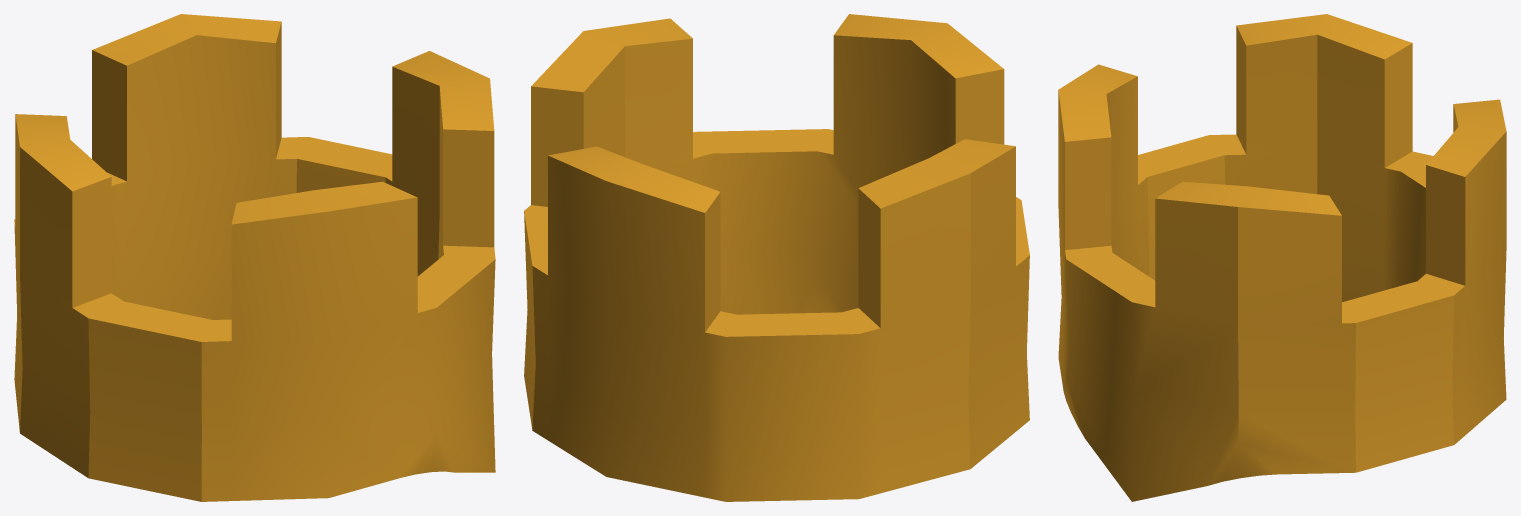
File: tac.fbx
3 views of the same model, side by side, from view 1: azimuth 30°, elevation 25°; view 2: azimuth 150°, elevation 25°; view 3: azimuth 270°, elevation 25° (orthographic). The views are drawn at different scales.
Parts seen in each view (by area): view 1: tac; view 2: tac; view 3: tac.
Part boxes in pixels (bbox=[...]): tac: bbox=[14, 14, 495, 501]; tac: bbox=[524, 14, 1029, 501]; tac: bbox=[1058, 14, 1506, 501].
Bounding box in the file's own units: 61.05 × 46.96 × 59.89.
